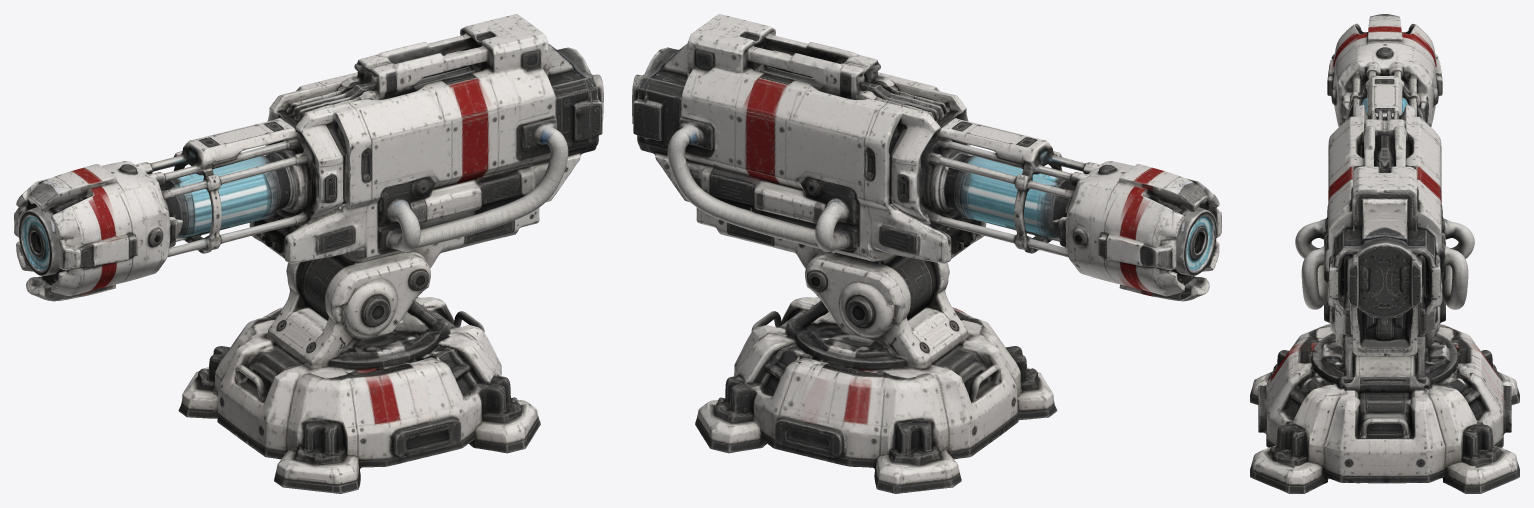
Rendered from modular-turret.glb.
3 views of the same model, side by side, from view 1: azimuth 30°, elevation 25°; view 2: azimuth 150°, elevation 25°; view 3: azimuth 270°, elevation 25° (orthographic). The views are drawn at different scales.
Parts seen in each view (by area): view 1: modular-turret-mesh-00; view 2: modular-turret-mesh-00; view 3: modular-turret-mesh-00.
Boxes of the visible parts, x1=… form: modular-turret-mesh-00: x1=14, y1=14, x2=603, y2=493; modular-turret-mesh-00: x1=632, y1=14, x2=1221, y2=493; modular-turret-mesh-00: x1=1250, y1=14, x2=1519, y2=493.
Size of the model in its own units: 1.9 by 1.15 by 0.8698.
Materials: 1 (1 with a texture image).
